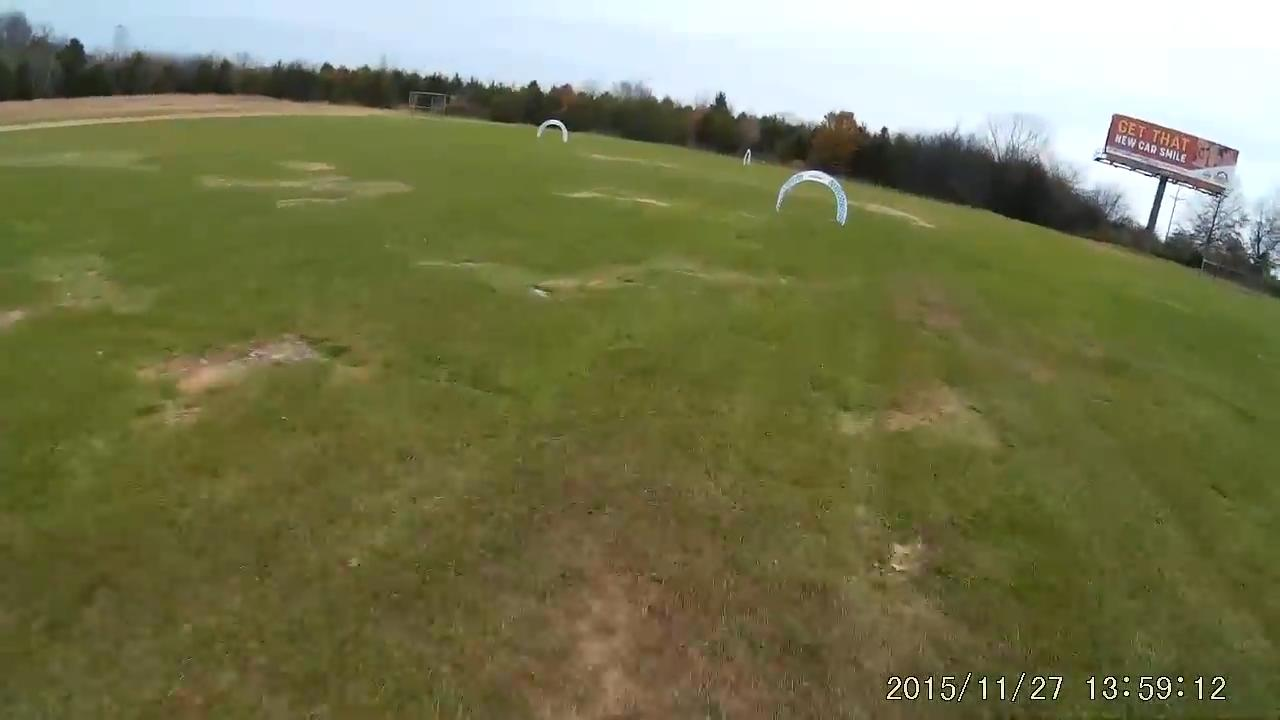gate: (772, 167, 851, 227)
